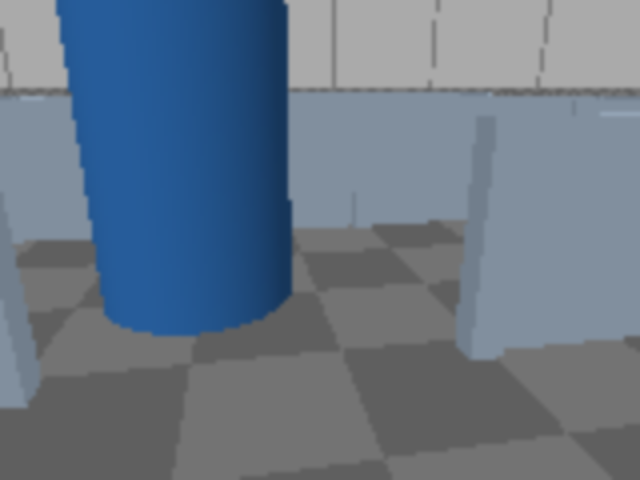person: (0, 0, 291, 335)
puck: (142, 473, 204, 478)
